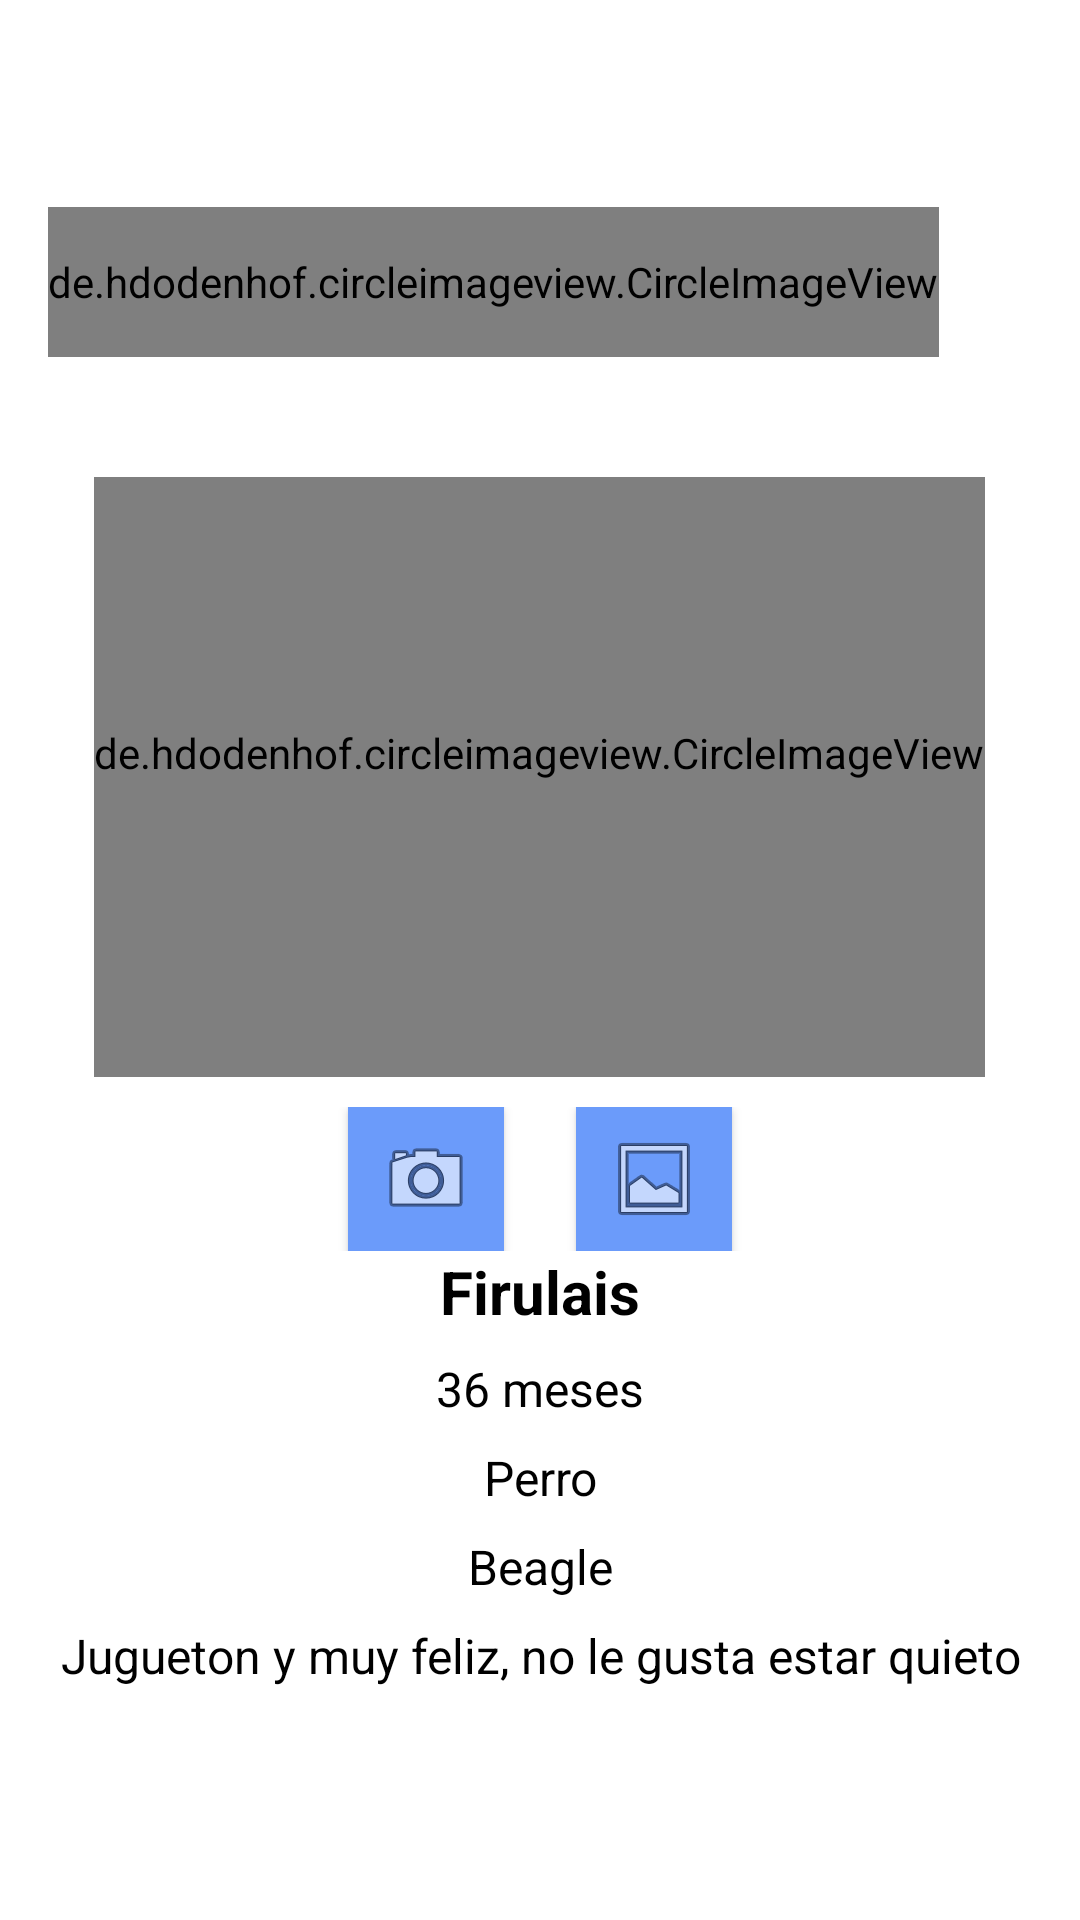

Icon click points for this 1080 × 1920 phone screenshot, format (x,y):
camera: (426,1179)
gallery: (654,1179)
